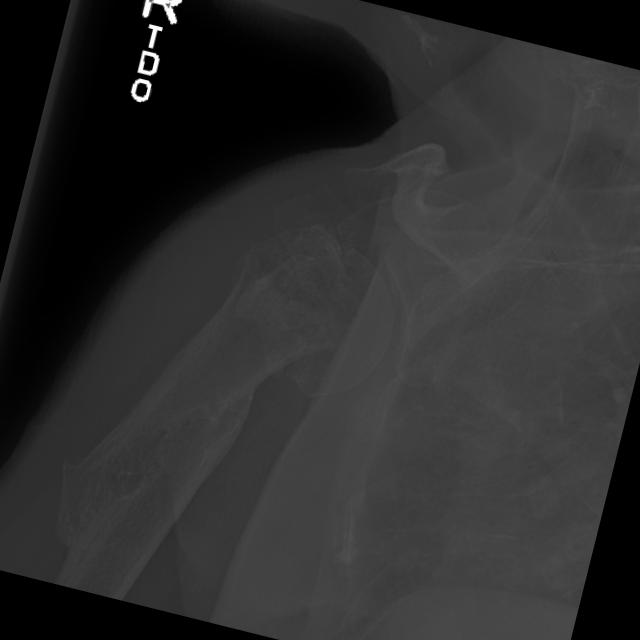shoulder fracture: (24, 367, 217, 608)
